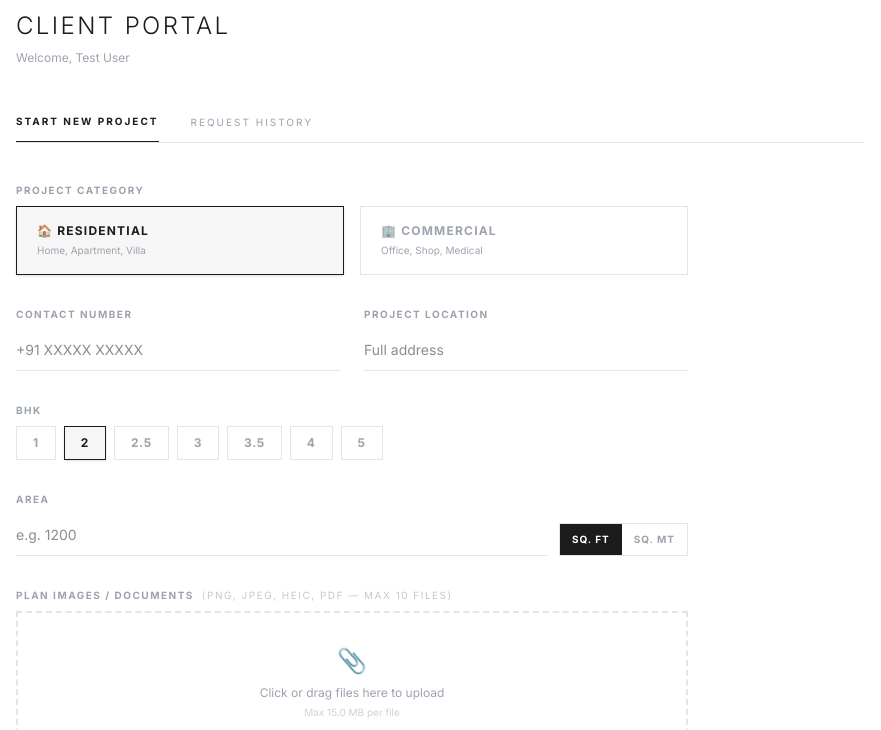
Scenario: TrackRequestPage — NEW additional cases › shows No past requests found when history is empty
This screenshot has width=881, height=730.
What coordinates should you click on to do the following:
click the button "Request History"
I would click on:
 (252, 128)
Its box is [190,114,313,142].
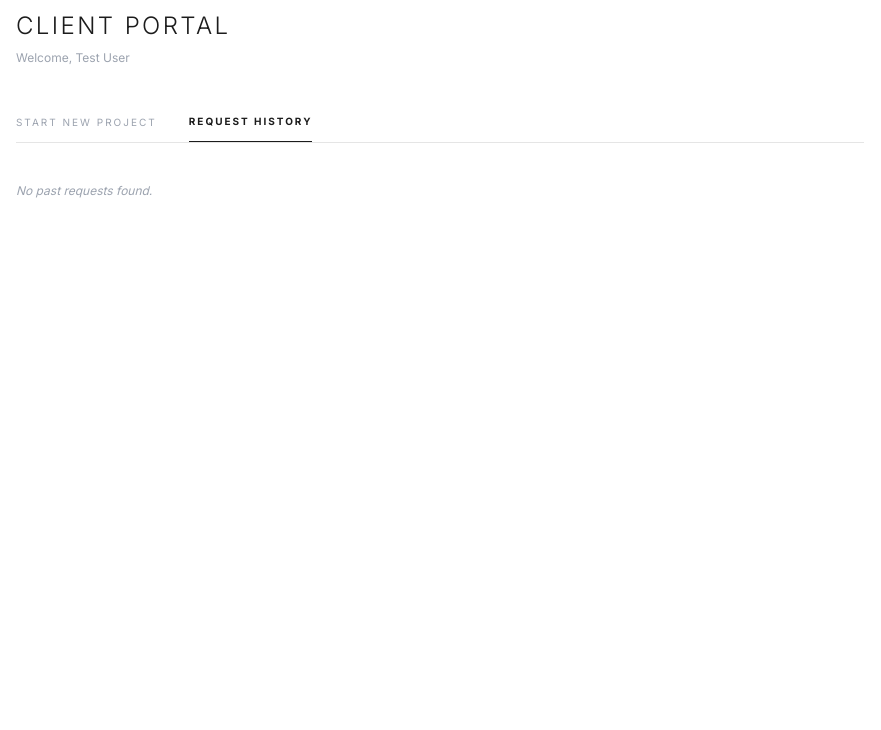
Now the text "No past requests found." is shown, box [16,183,152,198]
